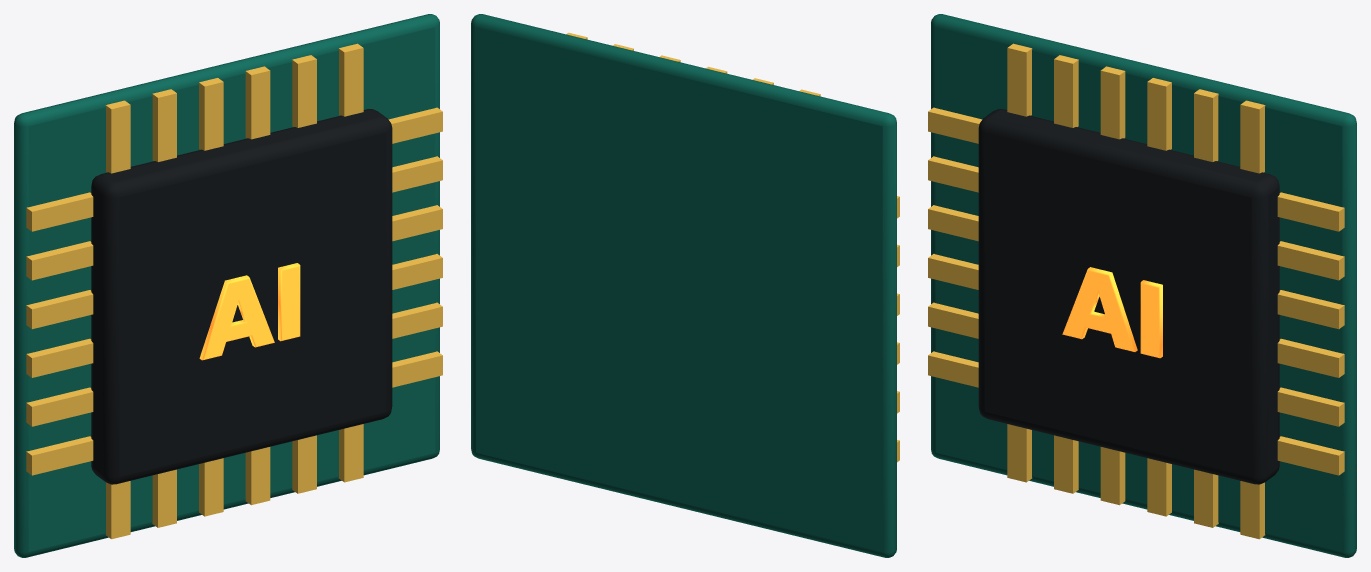
The picture shows the model from 3 angles, left to right: view 1: azimuth 30°, elevation 25°; view 2: azimuth 150°, elevation 25°; view 3: azimuth 330°, elevation 25°; orthographic projection.
Parts seen in each view (by area): view 1: chip, board, ai, p.012, p.003, p, p.019, p.023, p.004, p.007, p.008, p.011 (+15 smaller); view 2: board; view 3: chip, board, ai, p.008, p.002, p.018, p.020, p.022, p.006, p.010, p.012, p.016 (+15 smaller).
Part boxes in pixels (<box>): chip: <box>91,109,392,484</box>; board: <box>14,14,439,557</box>; ai: <box>199,263,300,360</box>; p.012: <box>245,66,270,139</box>; p.003: <box>26,436,93,475</box>; p: <box>105,100,130,173</box>; p.019: <box>26,241,93,280</box>; p.023: <box>26,192,93,231</box>; p.004: <box>152,89,176,161</box>; p.007: <box>26,387,93,426</box>; p.008: <box>199,78,223,150</box>; p.011: <box>26,338,93,377</box>; board: <box>471,14,896,557</box>; chip: <box>978,109,1279,484</box>; board: <box>931,14,1356,557</box>; ai: <box>1062,267,1162,358</box>; p.008: <box>1100,66,1125,139</box>; p.002: <box>1277,436,1344,475</box>; p.018: <box>1277,241,1344,280</box>; p.020: <box>1240,100,1265,173</box>; p.022: <box>1277,192,1344,231</box>; p.006: <box>1277,387,1344,426</box>; p.010: <box>1277,338,1344,377</box>; p.012: <box>1147,78,1171,150</box>; p.016: <box>1194,89,1218,161</box>.
Bounding box in the file's own units: 2 × 2 × 0.276.
